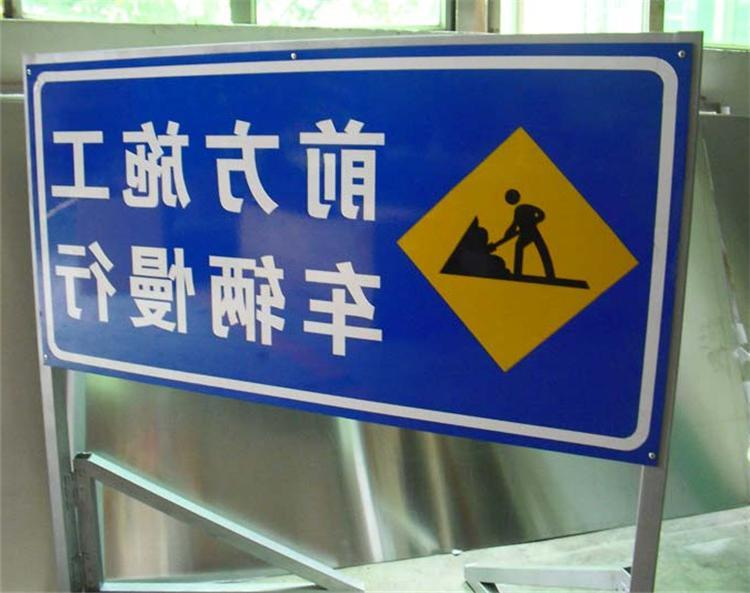sign: (27, 37, 704, 461)
